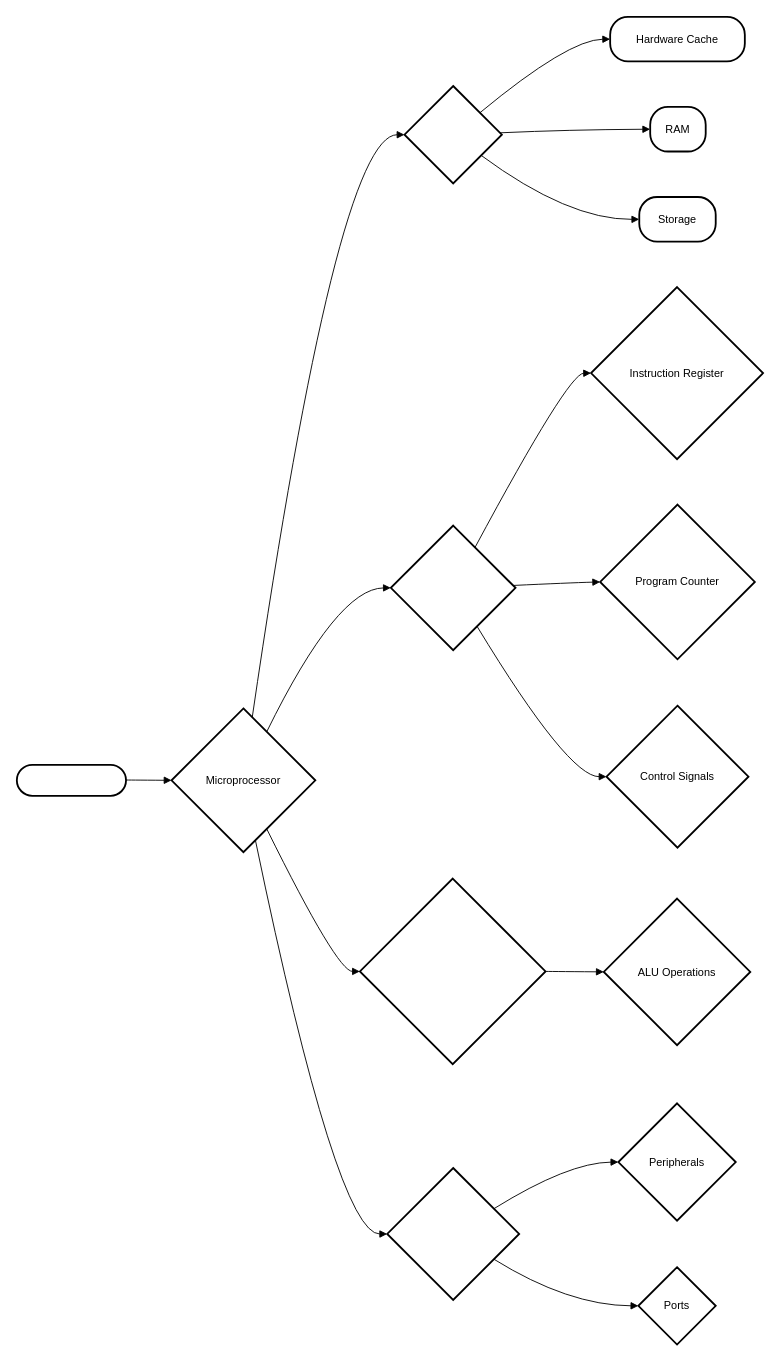
Some shapes in this 779 by 1360 pixel diagram are drawn without their labels. Each missing label, with the centre of its shape:
Arithmetic Logic Unit: (x=452, y=971)
Control Unit: (x=452, y=587)
Input/Output: (x=453, y=1233)
Memory: (x=452, y=134)
Power Supply: (x=70, y=779)
